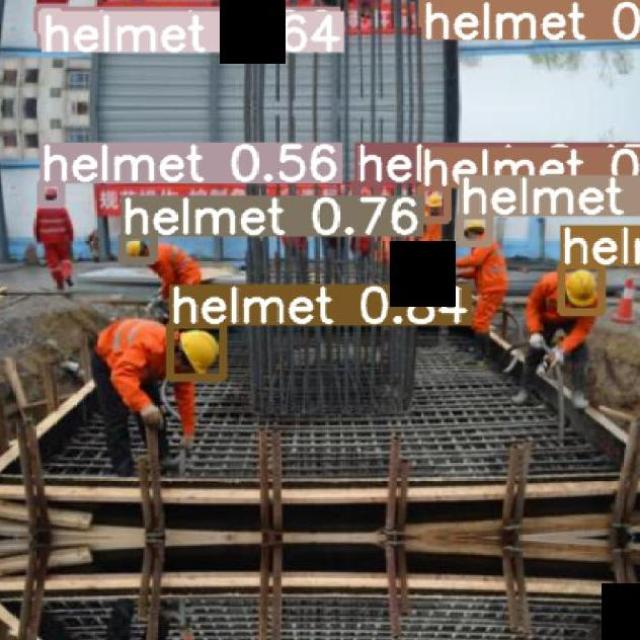red helmet: (46, 187, 61, 203)
yellow helmet: (177, 329, 219, 376), (565, 268, 600, 307), (426, 190, 445, 216), (126, 237, 147, 259), (465, 216, 487, 237)
